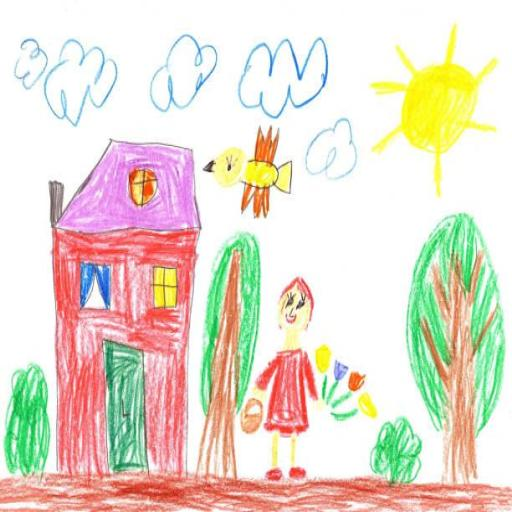person: (252, 272, 324, 480)
